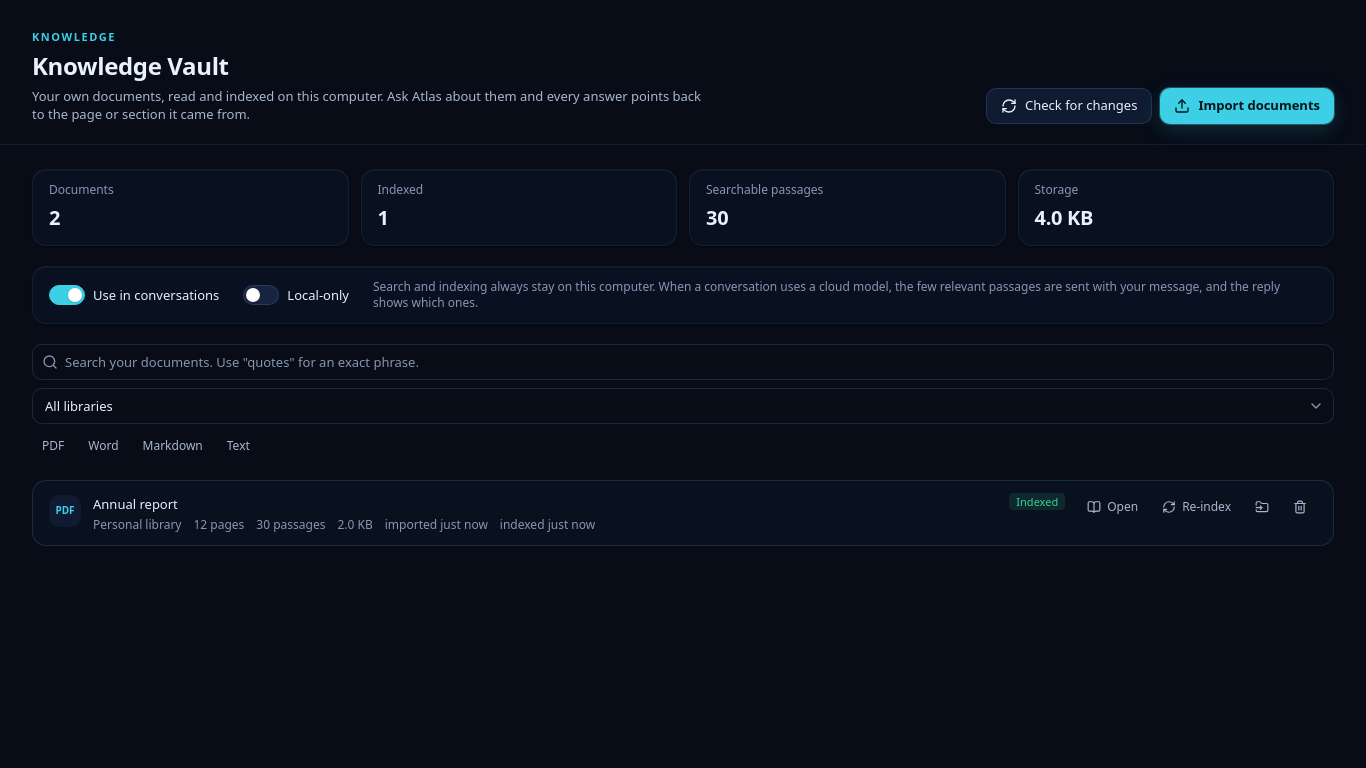
Knowledge Vault › searches the chosen library and types, and opens a result at its passage
Expected: the button "Annual report" is shown, 93,495 -> 178,514
Select "Personal library" in the dropdown named "Library" at x=683, y=406, box 32,388 -> 1334,424
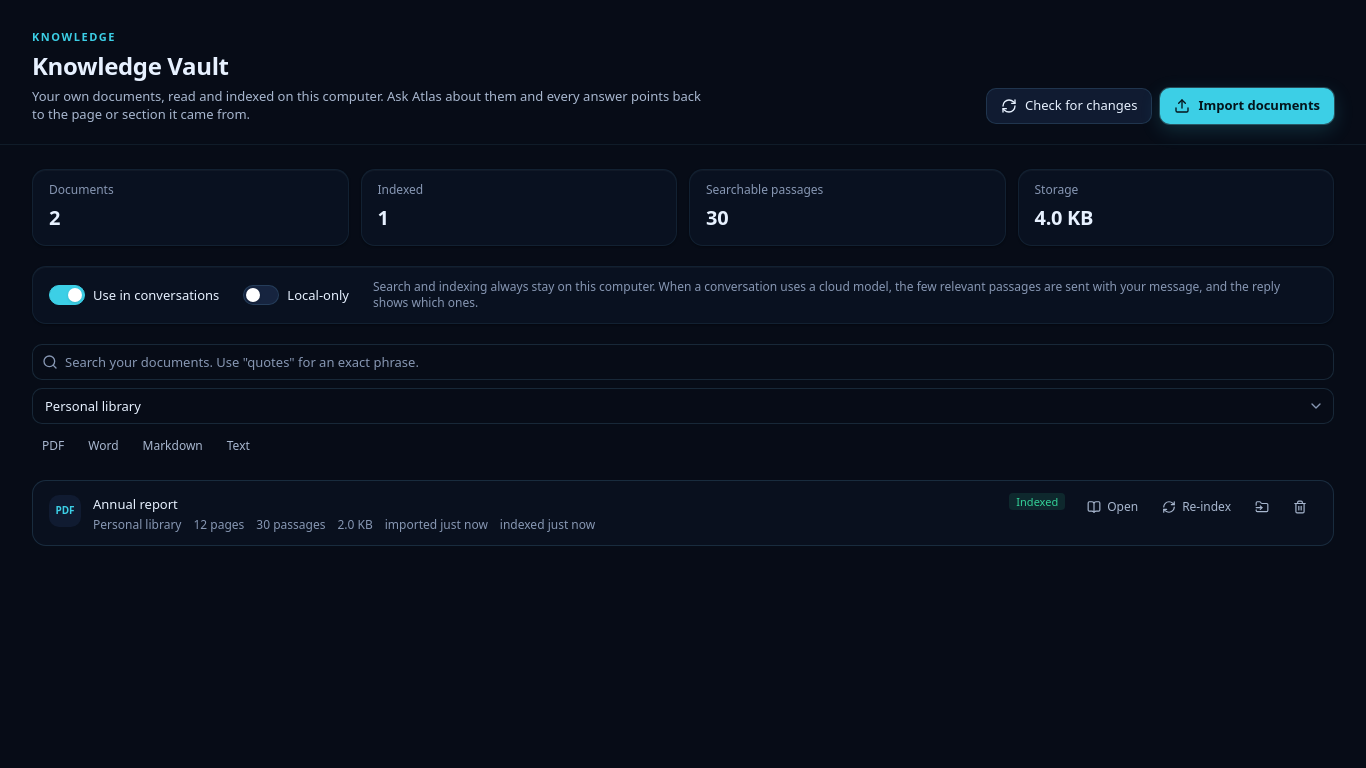
Click the button "PDF" at x=53, y=446, box 32,432 -> 74,460
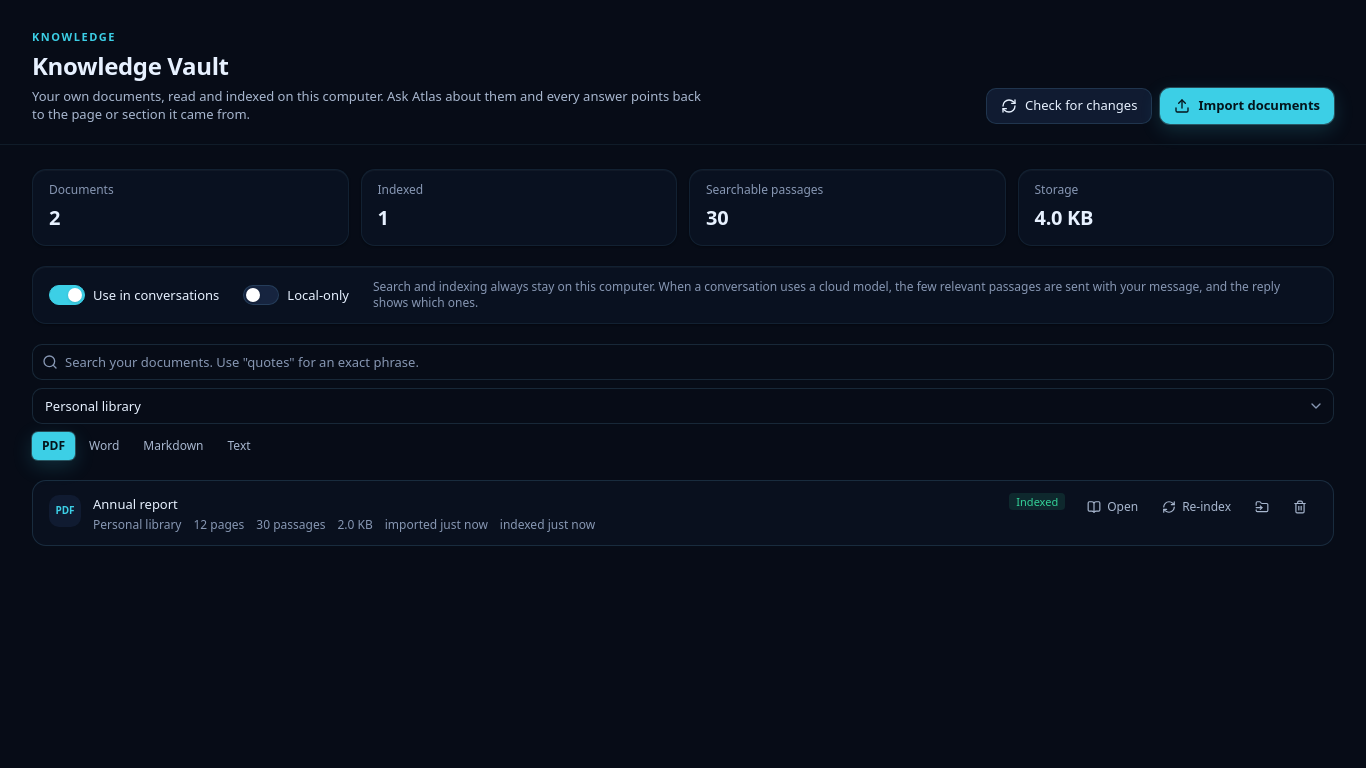
Type "glacier" into the field named "Search the Knowledge Vault" at x=683, y=362, box 32,344 -> 1334,380
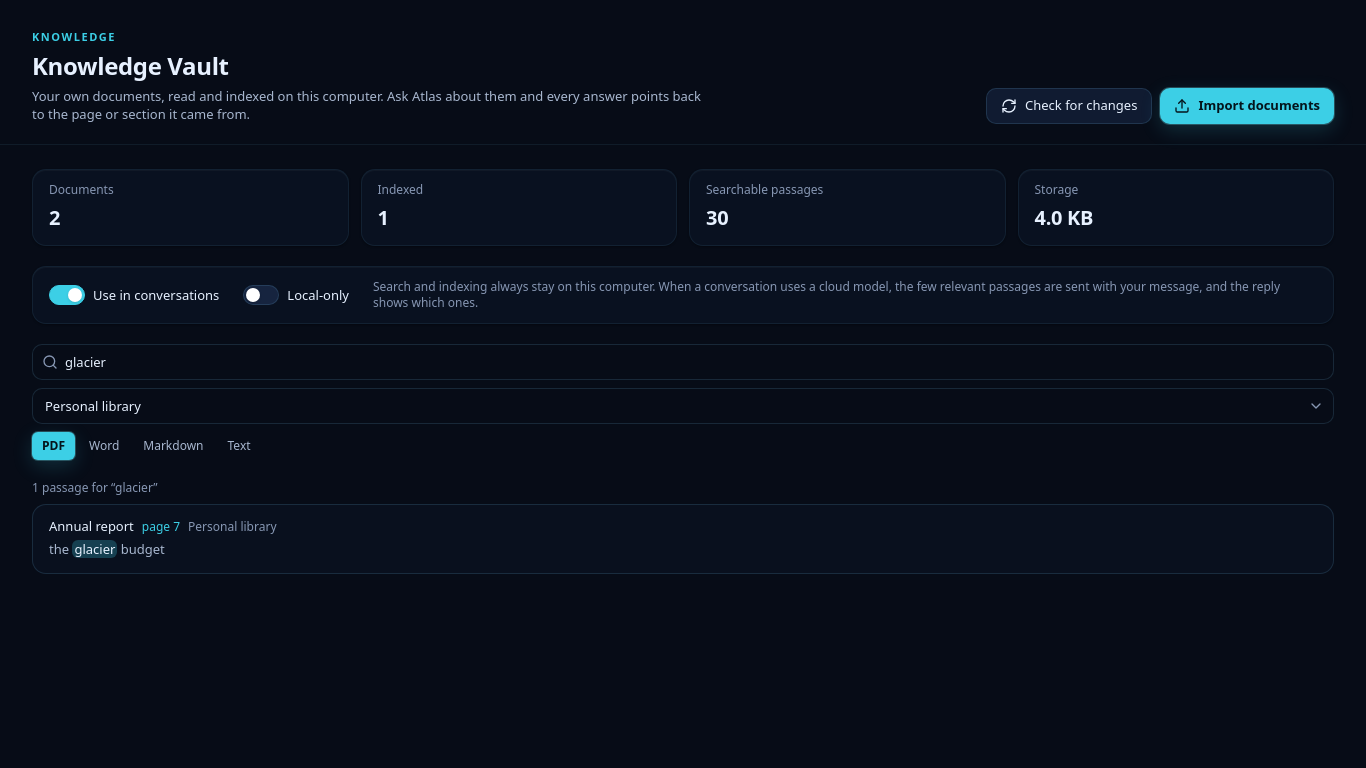
Click the text "page 7" at x=161, y=527, box 142,519 -> 180,535
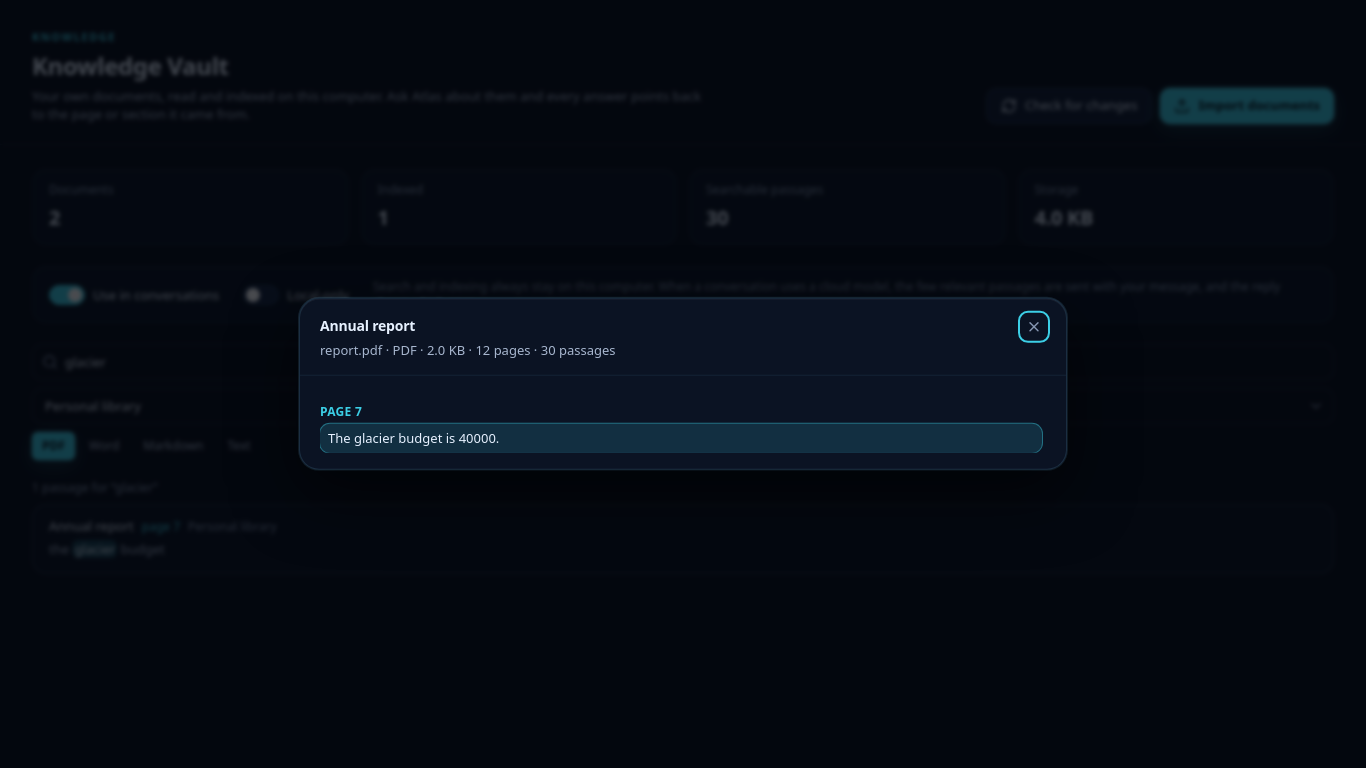
Expected: the text "The glacier budget is 40000." is shown, 320,424 -> 1042,453
